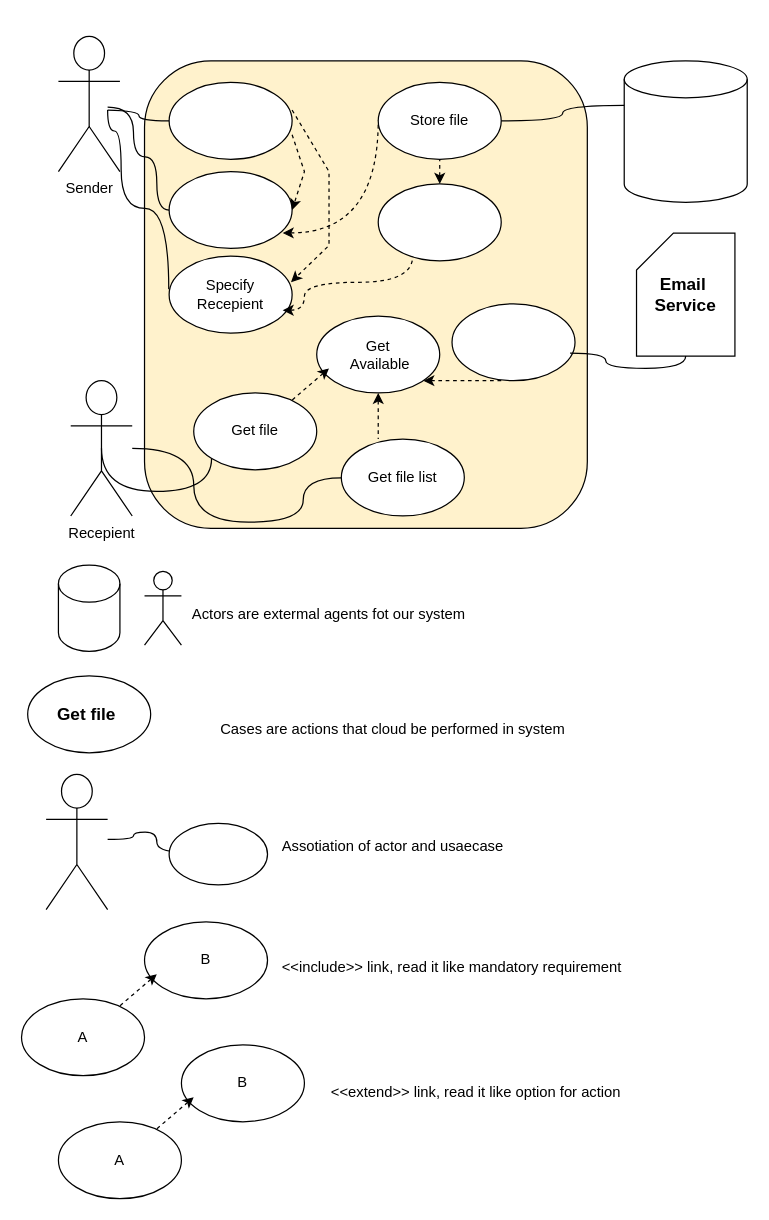
Some shapes in this 769 by 1220 pixel diagram are drawn without their labels. The shapes that lost their labels are listed below. From the top down, each one's box as (x1, y1, x2, y2) in pixels, then its label:
(168, 81, 292, 159): Send file
(623, 60, 747, 202): Storage
(168, 170, 292, 248): Upload File
(377, 183, 501, 261): Save file metadate
(143, 60, 587, 528): File transfer service (basic file transfer use case)
(451, 303, 575, 381): Send email
